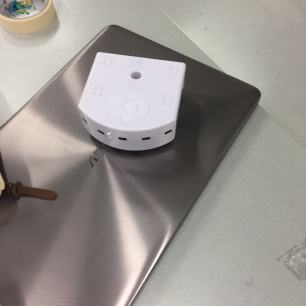thymio: (76, 47, 187, 155)
